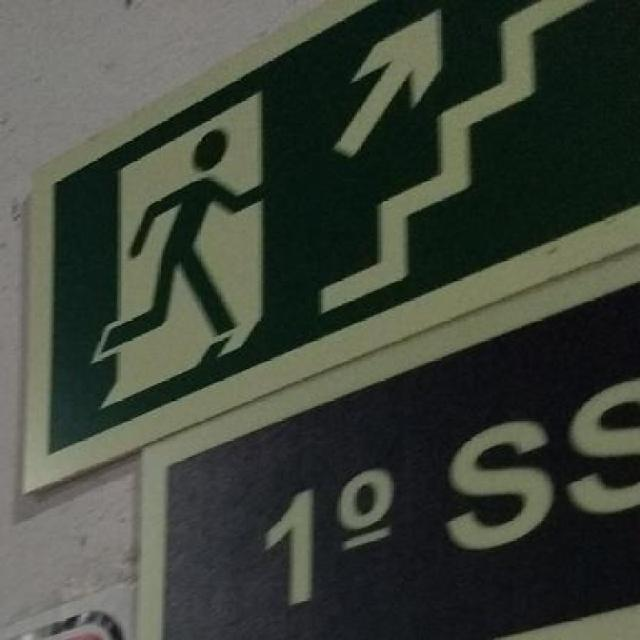emergency_exit: (17, 0, 639, 496), (134, 278, 639, 638)
